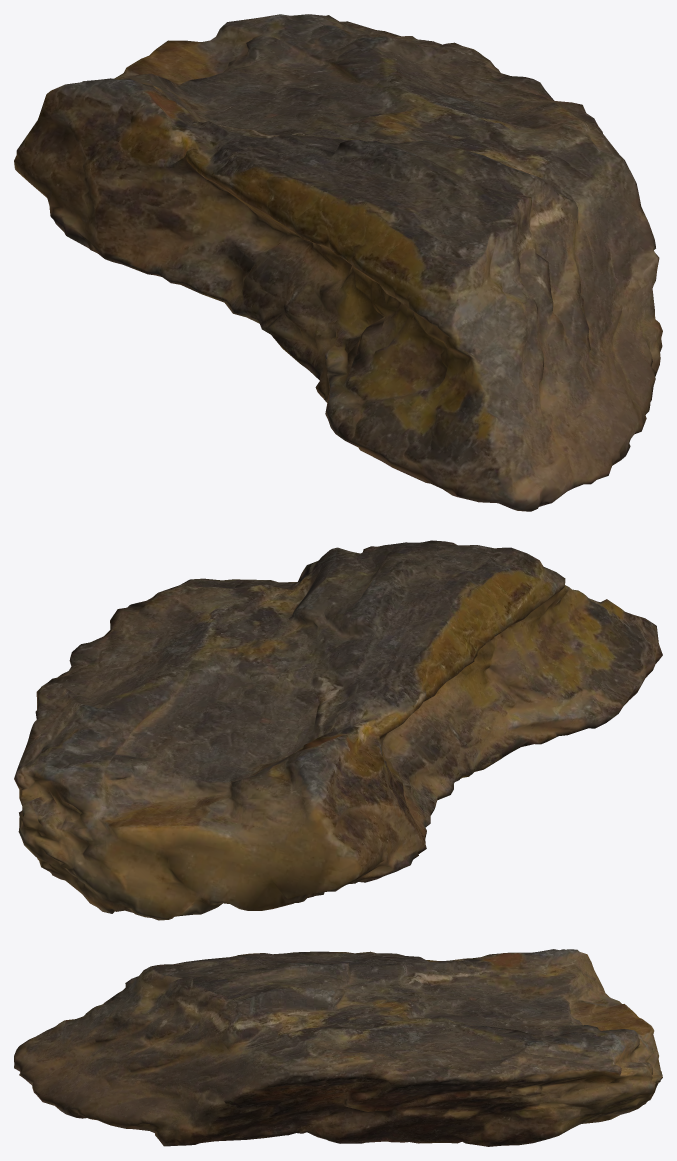
File: ph-rock-09.glb
3 renders of one model, top to bottom at view 1: azimuth 30°, elevation 25°; view 2: azimuth 150°, elevation 25°; view 3: azimuth 270°, elevation 25°, orthographic. The views are drawn at different scales.
Visible parts, largest first — view 1: rock_09_LOD0; view 2: rock_09_LOD0; view 3: rock_09_LOD0.
Boxes of the visible parts, box(x1,y1,x2,y2) form: rock_09_LOD0: box(14, 14, 662, 511); rock_09_LOD0: box(14, 540, 662, 920); rock_09_LOD0: box(14, 949, 662, 1146).
Size of the model in its own units: 0.074 by 0.0328 by 0.1446.
1 material, 1 textured.
